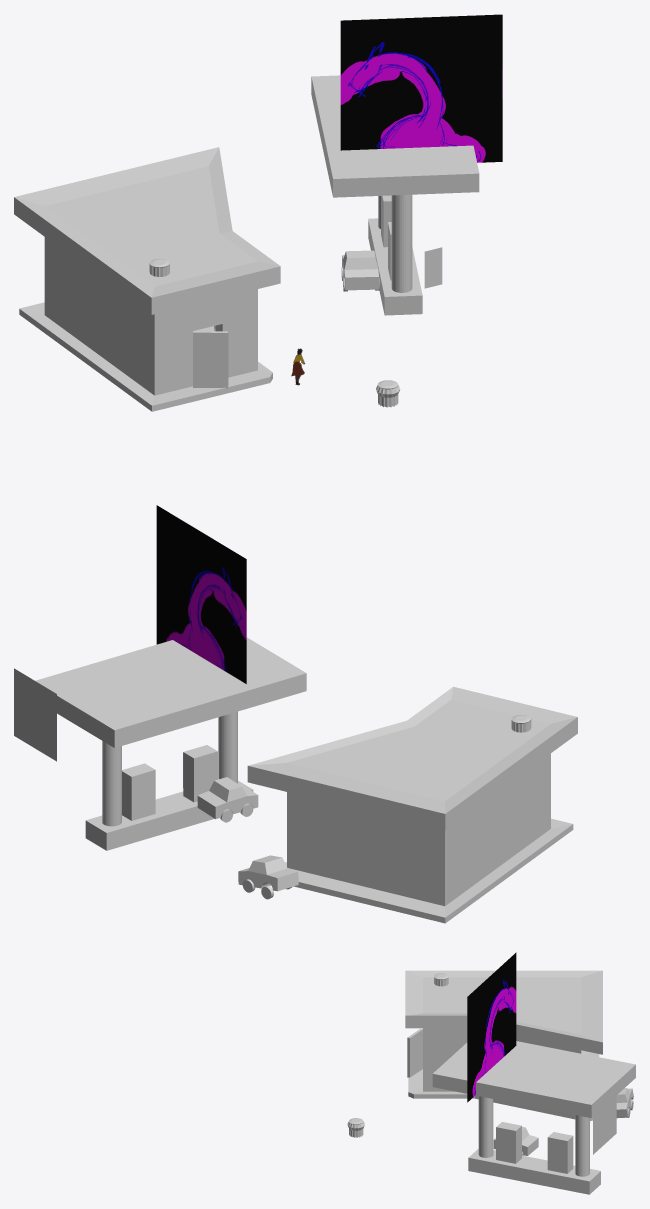
3 renders of one model, top to bottom at view 1: azimuth 30°, elevation 25°; view 2: azimuth 150°, elevation 25°; view 3: azimuth 270°, elevation 25°, orthographic. The views are drawn at different scales.
Parts seen in each view (by area): view 1: building.002, right_dragon_front.002, carport_roof.002, carport_base.002, carport_pillar_near.002, door.002, car_body.002, chester.002; view 2: building.002, carport_roof.002, right_dragon_front.002, carport_base.002, right_dragon_tail.002, car_body.002, carport_pillar_far.002, wrecked_car_body.002, carport_pillar_near.002; view 3: building.002, carport_roof.002, right_dragon_front.002, carport_base.002, right_dragon_tail.002, carport_pillar_near.002, carport_pillar_far.002, door.002, wrecked_car_body.002, car_body.002.
Part boxes in pixels (bbox=[...]): building.002: bbox=[14, 147, 280, 411]; right_dragon_front.002: bbox=[340, 14, 502, 162]; carport_roof.002: bbox=[311, 75, 479, 197]; carport_base.002: bbox=[368, 195, 422, 315]; carport_pillar_near.002: bbox=[391, 194, 412, 292]; door.002: bbox=[193, 331, 228, 388]; car_body.002: bbox=[342, 250, 379, 290]; chester.002: bbox=[424, 247, 442, 288]; building.002: bbox=[247, 686, 577, 923]; carport_roof.002: bbox=[35, 637, 306, 747]; right_dragon_front.002: bbox=[156, 505, 246, 683]; carport_base.002: bbox=[85, 745, 253, 850]; right_dragon_tail.002: bbox=[14, 668, 56, 761]; car_body.002: bbox=[197, 777, 258, 819]; carport_pillar_far.002: bbox=[102, 741, 121, 826]; wrecked_car_body.002: bbox=[238, 855, 298, 891]; carport_pillar_near.002: bbox=[218, 711, 237, 783]; building.002: bbox=[405, 970, 602, 1121]; carport_roof.002: bbox=[432, 1041, 635, 1118]; right_dragon_front.002: bbox=[467, 952, 516, 1102]; carport_base.002: bbox=[468, 1122, 600, 1194]; right_dragon_tail.002: bbox=[593, 1083, 616, 1154]; carport_pillar_near.002: bbox=[478, 1096, 493, 1157]; carport_pillar_far.002: bbox=[575, 1115, 589, 1176]; door.002: bbox=[407, 1028, 422, 1077]; wrecked_car_body.002: bbox=[616, 1088, 633, 1118]; car_body.002: bbox=[493, 1126, 538, 1155].
Size of what is drawn, in the model's own units: 5133 by 3080 by 8463.
